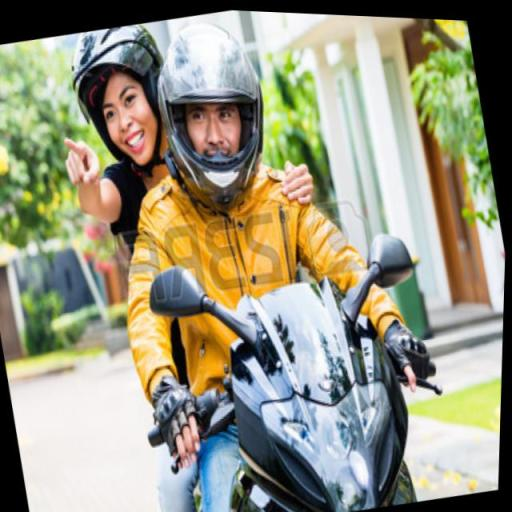Helmet: (140, 5, 294, 228), (54, 16, 184, 180)
Motor: (127, 207, 472, 512)
